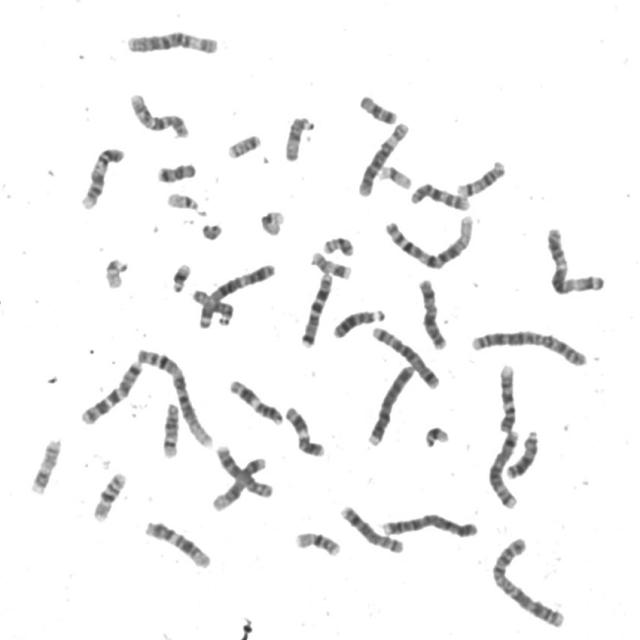A1: (132, 343, 215, 450), (379, 208, 476, 271)
A2: (486, 532, 568, 630), (466, 323, 590, 367)
A3: (193, 257, 277, 330), (542, 222, 607, 295)
B4: (362, 358, 417, 448), (376, 508, 479, 538)
B5: (367, 320, 443, 390), (484, 426, 522, 511)
C10: (124, 88, 191, 139), (406, 177, 473, 212)
C11: (224, 374, 286, 426), (281, 400, 327, 458)
C12: (140, 514, 212, 570), (208, 452, 267, 514)
C6: (353, 116, 410, 198), (122, 25, 221, 56)
C7: (75, 356, 145, 426), (295, 266, 335, 349)
C8: (336, 500, 406, 555), (212, 440, 274, 499)
C9: (76, 142, 126, 210), (494, 358, 518, 434)
D13: (328, 302, 386, 340), (502, 424, 540, 480)
D14: (452, 154, 508, 199), (156, 396, 182, 460)
D15: (187, 283, 236, 327), (280, 110, 316, 163)
E16: (87, 466, 128, 524), (290, 526, 342, 558)
E17: (25, 432, 62, 497), (306, 246, 353, 280)
E18: (354, 88, 399, 125), (152, 158, 198, 185)
F19: (374, 159, 414, 191), (255, 204, 287, 237)
F20: (223, 128, 263, 159), (319, 230, 356, 257)
G21: (166, 258, 192, 293), (419, 421, 451, 448)
G22: (99, 252, 129, 290), (162, 188, 202, 212)
X: (414, 273, 449, 350)
